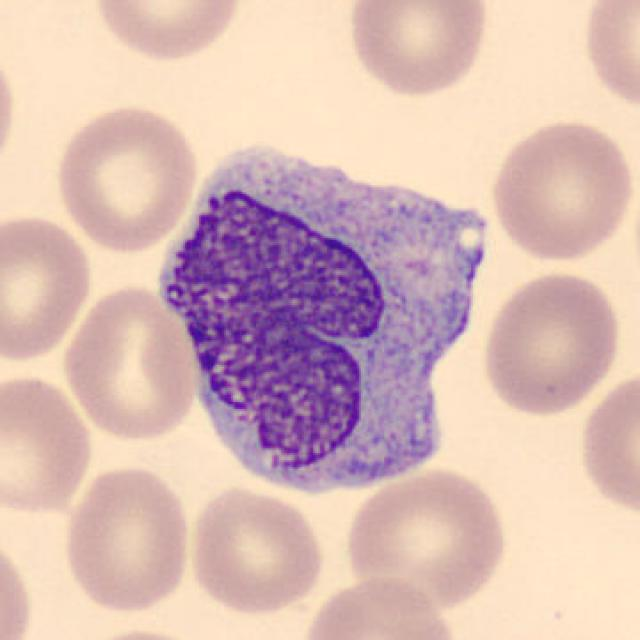Monocyte: (150, 131, 500, 513)
RBC: (341, 462, 512, 610), (57, 280, 203, 444), (49, 100, 202, 254), (476, 266, 624, 420), (487, 114, 637, 264), (58, 460, 194, 617), (185, 483, 329, 619), (0, 210, 96, 367), (343, 0, 492, 100), (0, 371, 98, 518), (298, 573, 458, 640), (89, 0, 247, 65), (574, 365, 638, 522), (578, 0, 638, 118), (0, 529, 37, 640), (0, 38, 21, 188), (69, 626, 215, 640)
